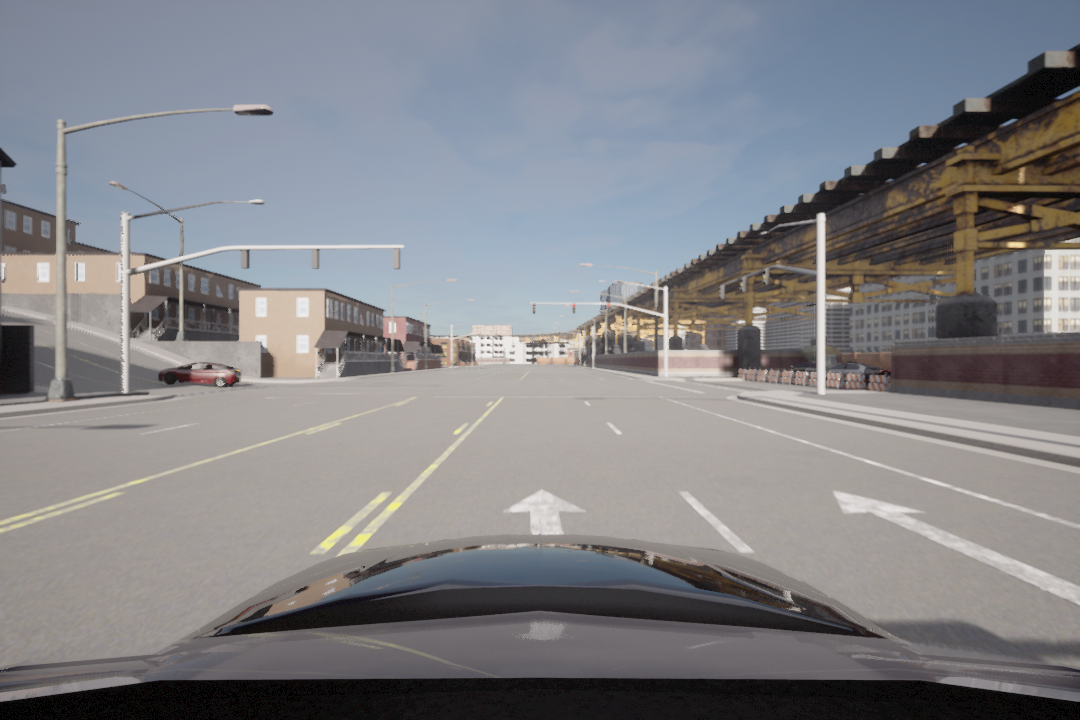RoadSign_forward: (814, 486, 1080, 610), (507, 482, 593, 540)
TrafficLight: (738, 274, 747, 294), (761, 267, 770, 284), (716, 283, 724, 301), (568, 302, 578, 314), (531, 302, 537, 315), (606, 303, 611, 315)
